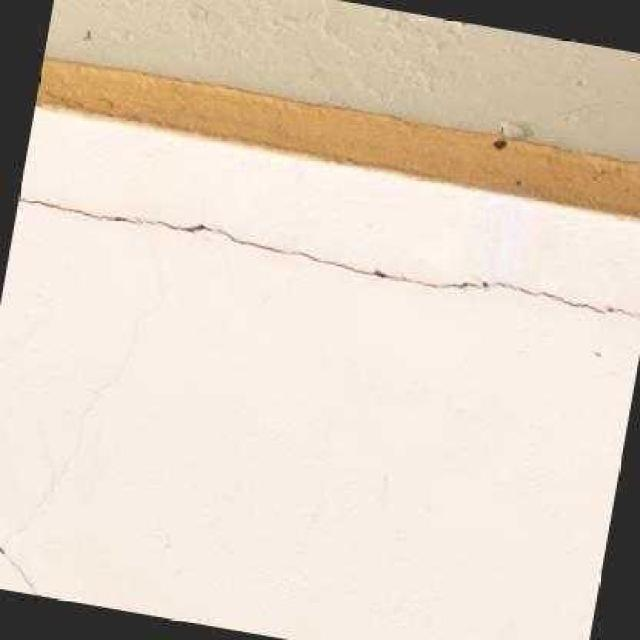D00: (133, 215, 640, 316), (16, 196, 133, 222), (0, 548, 39, 595)
